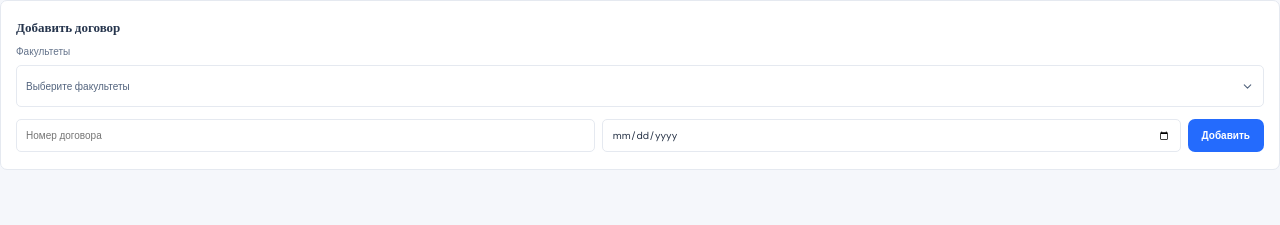
Test case: CreateContractForm › shows validation errors before submitting an empty form
Click the button "Добавить" at (1226, 136), box left=1188, top=119, right=1264, bottom=152
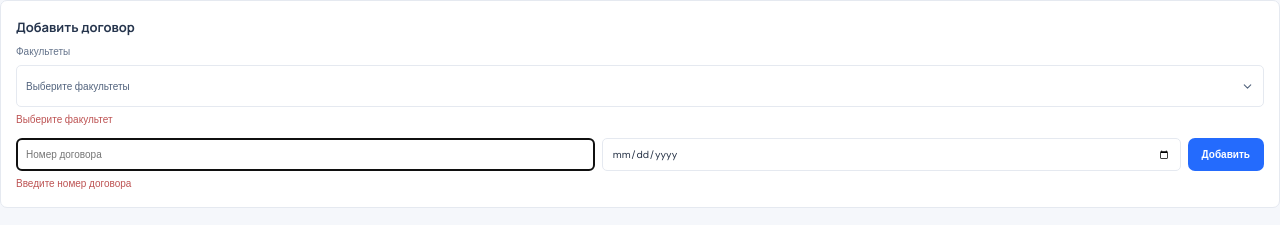
Now the text "Введите номер договора" is shown, box left=16, top=177, right=131, bottom=190
